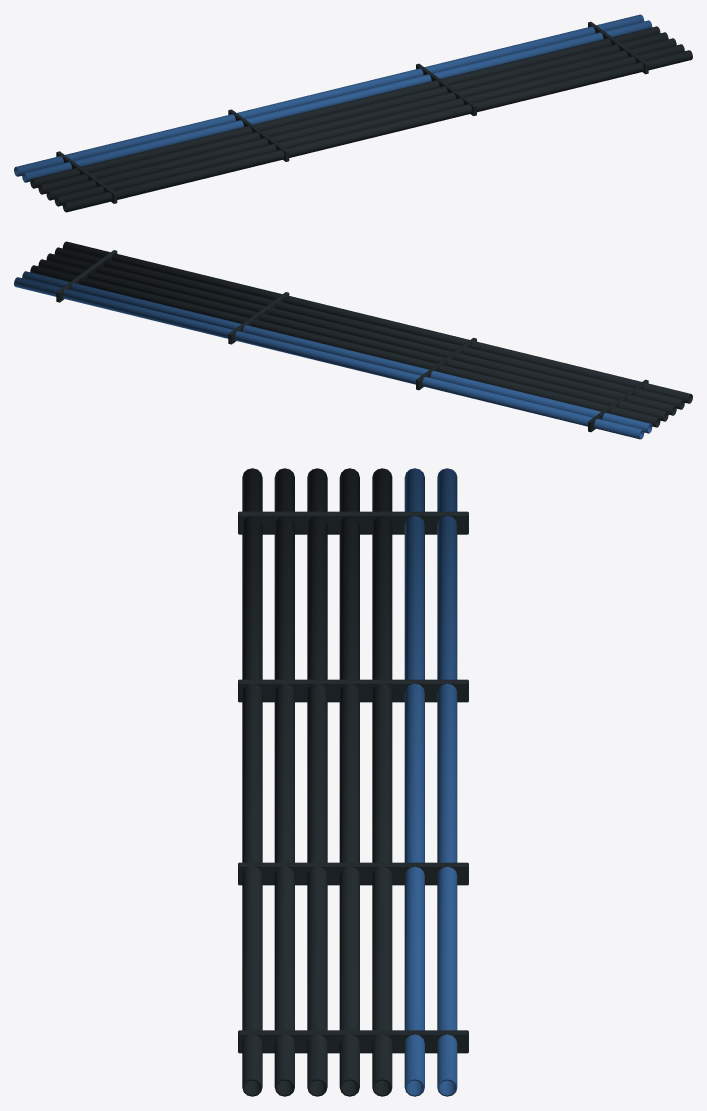
File: SM_WS_CableBundle_2m.fbx
The picture shows the model from 3 angles, top to bottom: view 1: azimuth 30°, elevation 25°; view 2: azimuth 150°, elevation 25°; view 3: azimuth 270°, elevation 25°; orthographic projection. The views are drawn at different scales.
Visible parts, largest first — view 1: SM_WS_CableBundle_2m; view 2: SM_WS_CableBundle_2m; view 3: SM_WS_CableBundle_2m.
Boxes of the visible parts, x1=… form: SM_WS_CableBundle_2m: x1=14, y1=14, x2=692, y2=212; SM_WS_CableBundle_2m: x1=14, y1=241, x2=692, y2=439; SM_WS_CableBundle_2m: x1=238, y1=468, x2=468, y2=1096.
Size of the model in its own units: 2 by 0.32 by 0.031.
